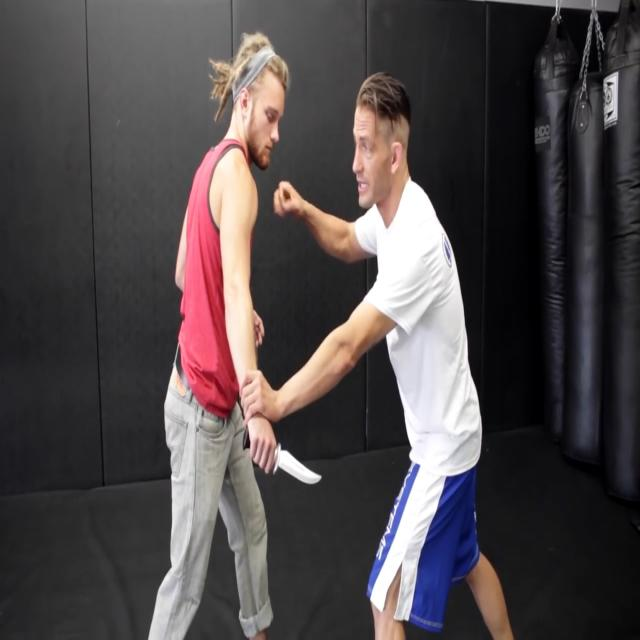knife: (276, 438, 328, 496)
